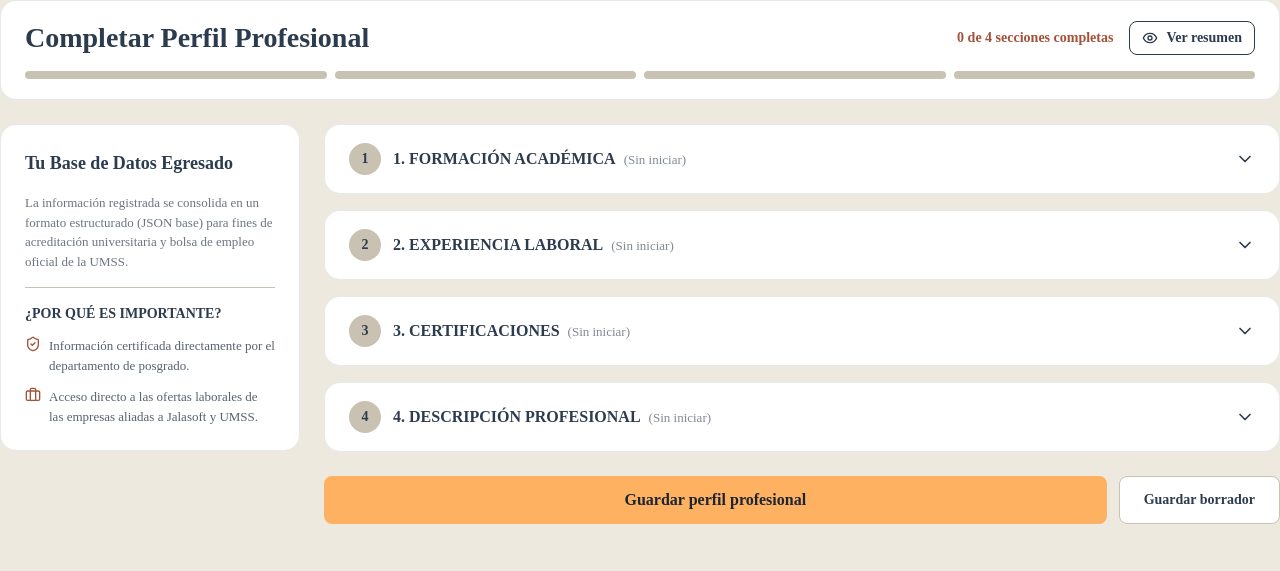
Test: Completar perfil · guardar formación académica en la API › 409: muestra el mensaje del backend, no agrega y no limpia
Click the button "1 1. Formación académica (Sin iniciar)" at (365, 159), box [325,125,1279,193]
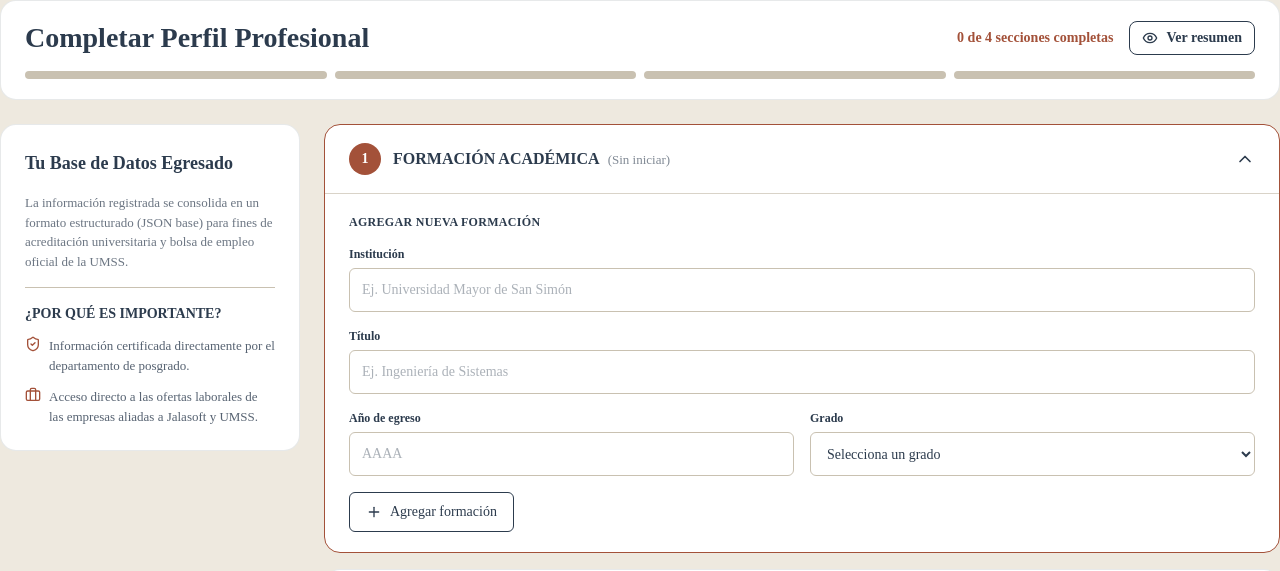
Type "UMSS" into the field labelled "Institución" at (802, 290), box [349,268,1255,312]
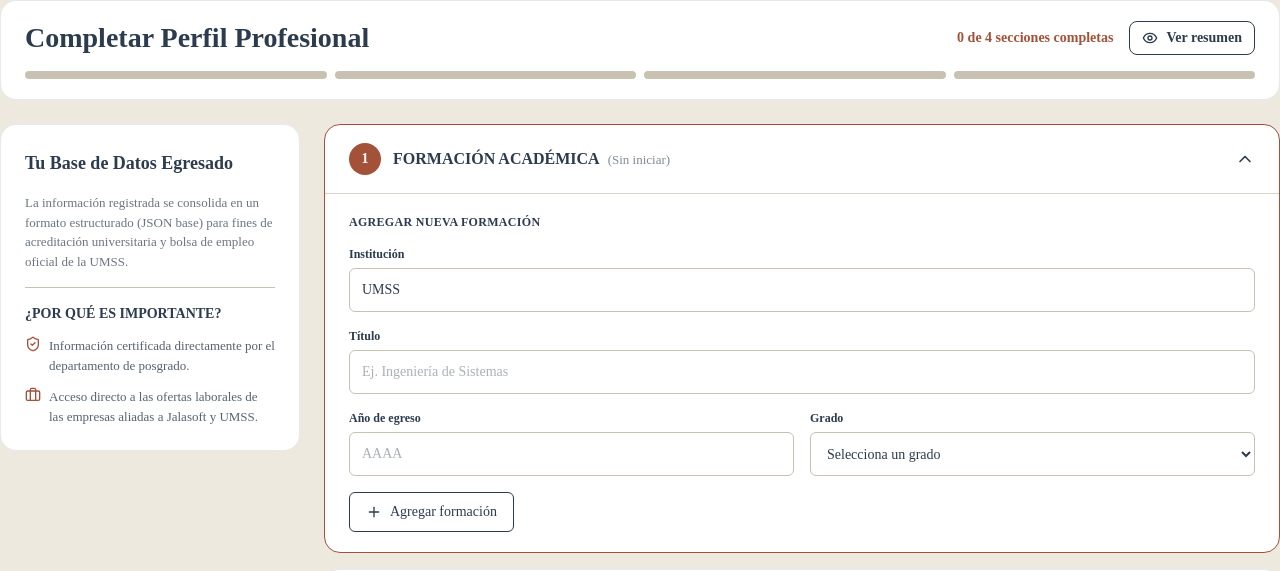
Type "Ingeniería de Sistemas" into the field labelled "Título" at (802, 372), box [349,350,1255,394]
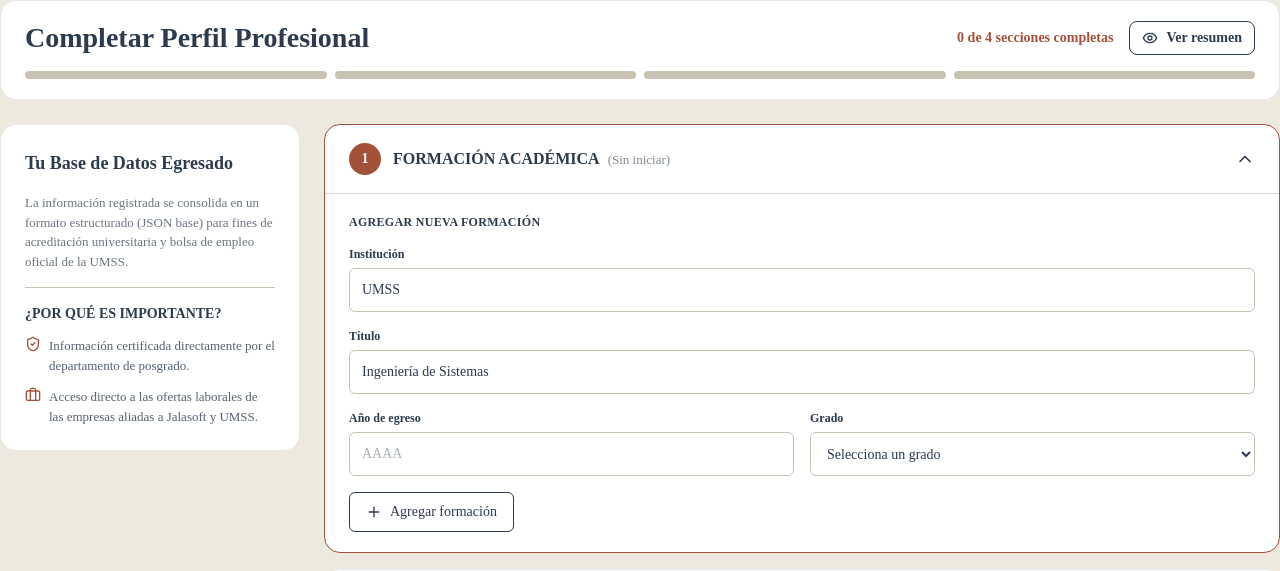
Type "2018" into the field labelled "Año de egreso" at (572, 454), box [349,432,794,476]
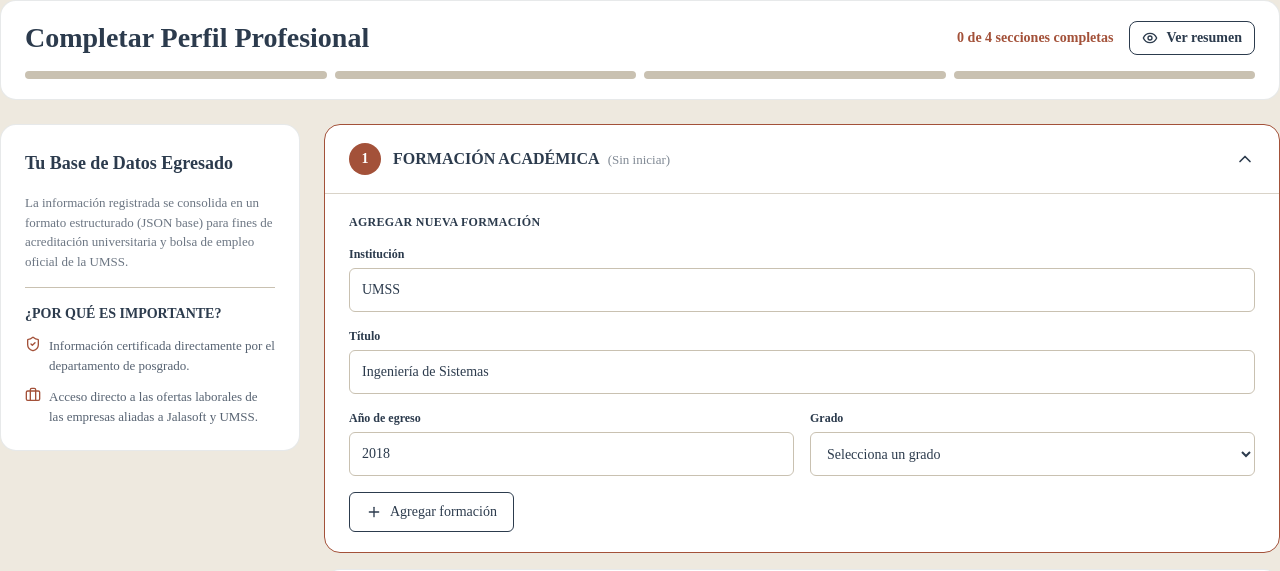
Select "Licenciatura" in the dropdown labelled "Grado" at (1032, 454), box [810,432,1255,476]
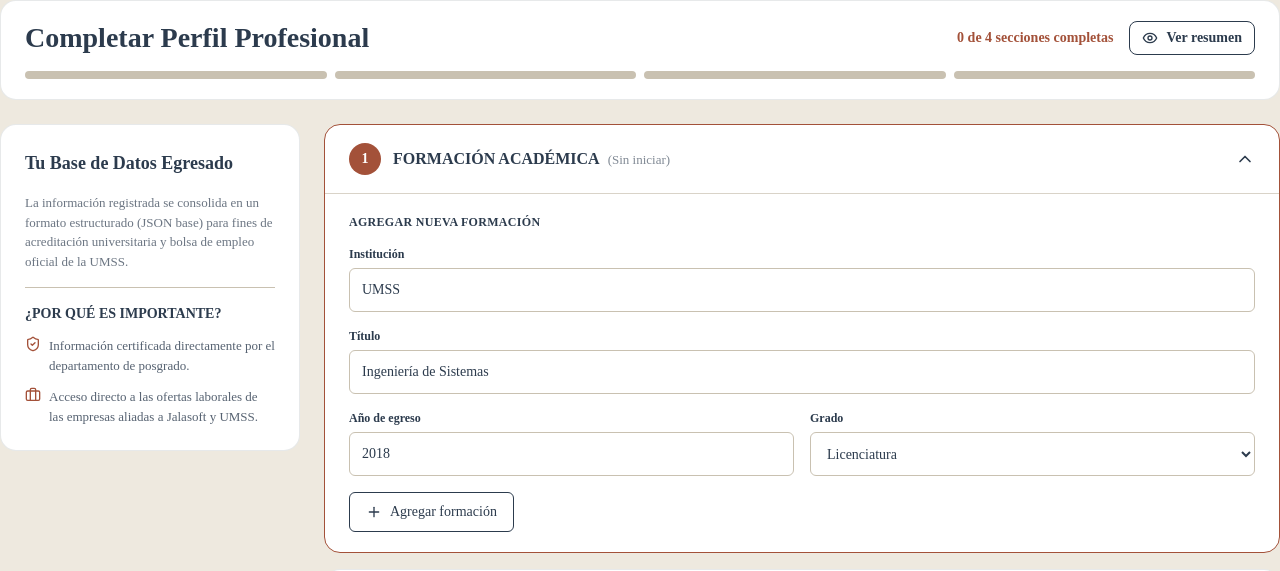
Click the button "Agregar formación" at (431, 512), box [349,492,514,532]
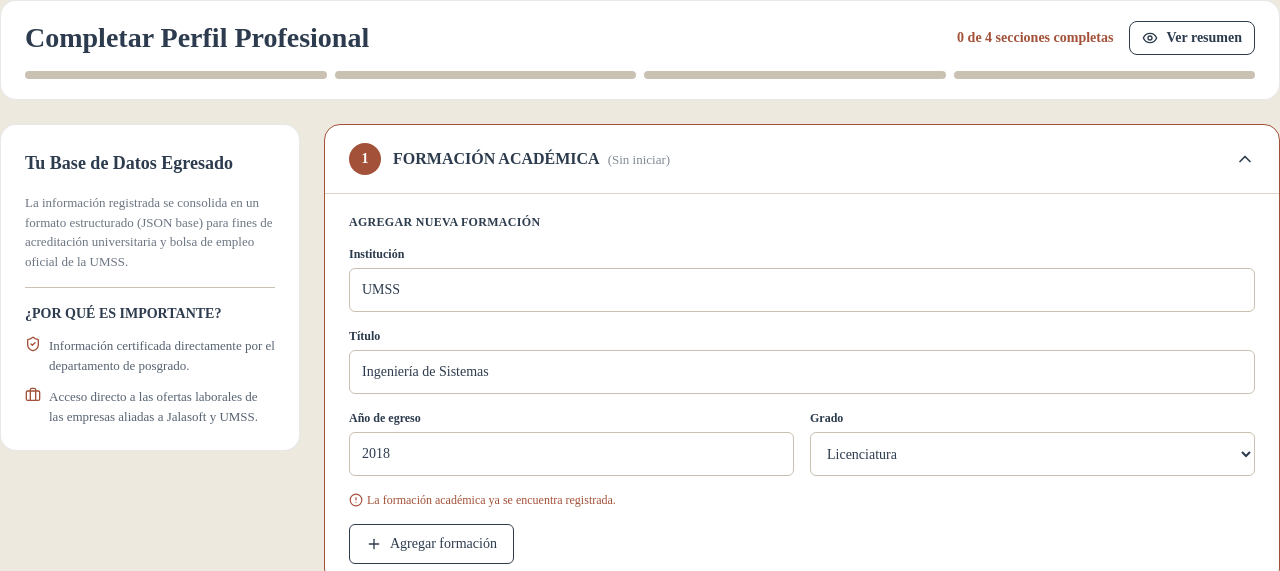
Expected: the text "La formación académica ya se encuentra registrada." is shown, [349,493,616,507]
